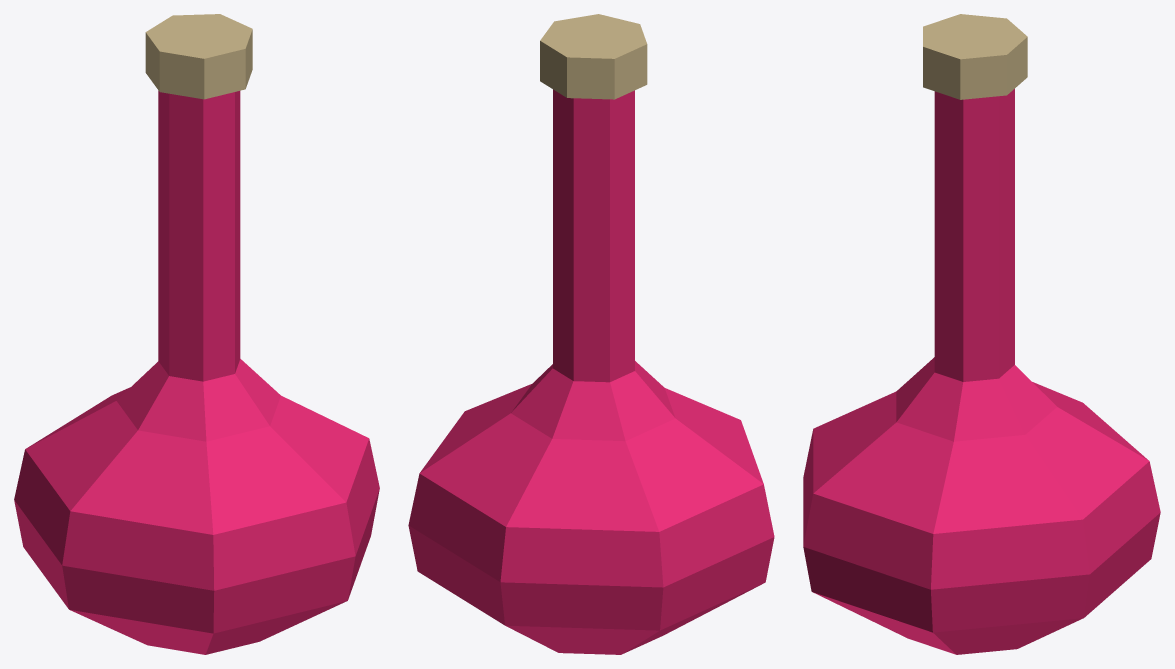
File: LongPotion_3.fbx
The picture shows the model from 3 angles, left to right: view 1: azimuth 30°, elevation 25°; view 2: azimuth 150°, elevation 25°; view 3: azimuth 270°, elevation 25°; orthographic projection.
Parts seen in each view (by area): view 1: LongPotion_3; view 2: LongPotion_3; view 3: LongPotion_3.
Boxes of the visible parts, x1,y1,x2,y2 form: LongPotion_3: (14,14,379,654); LongPotion_3: (408,14,774,654); LongPotion_3: (803,14,1160,654).
Bounding box in the file's own units: 13.29 × 23.55 × 12.96.
